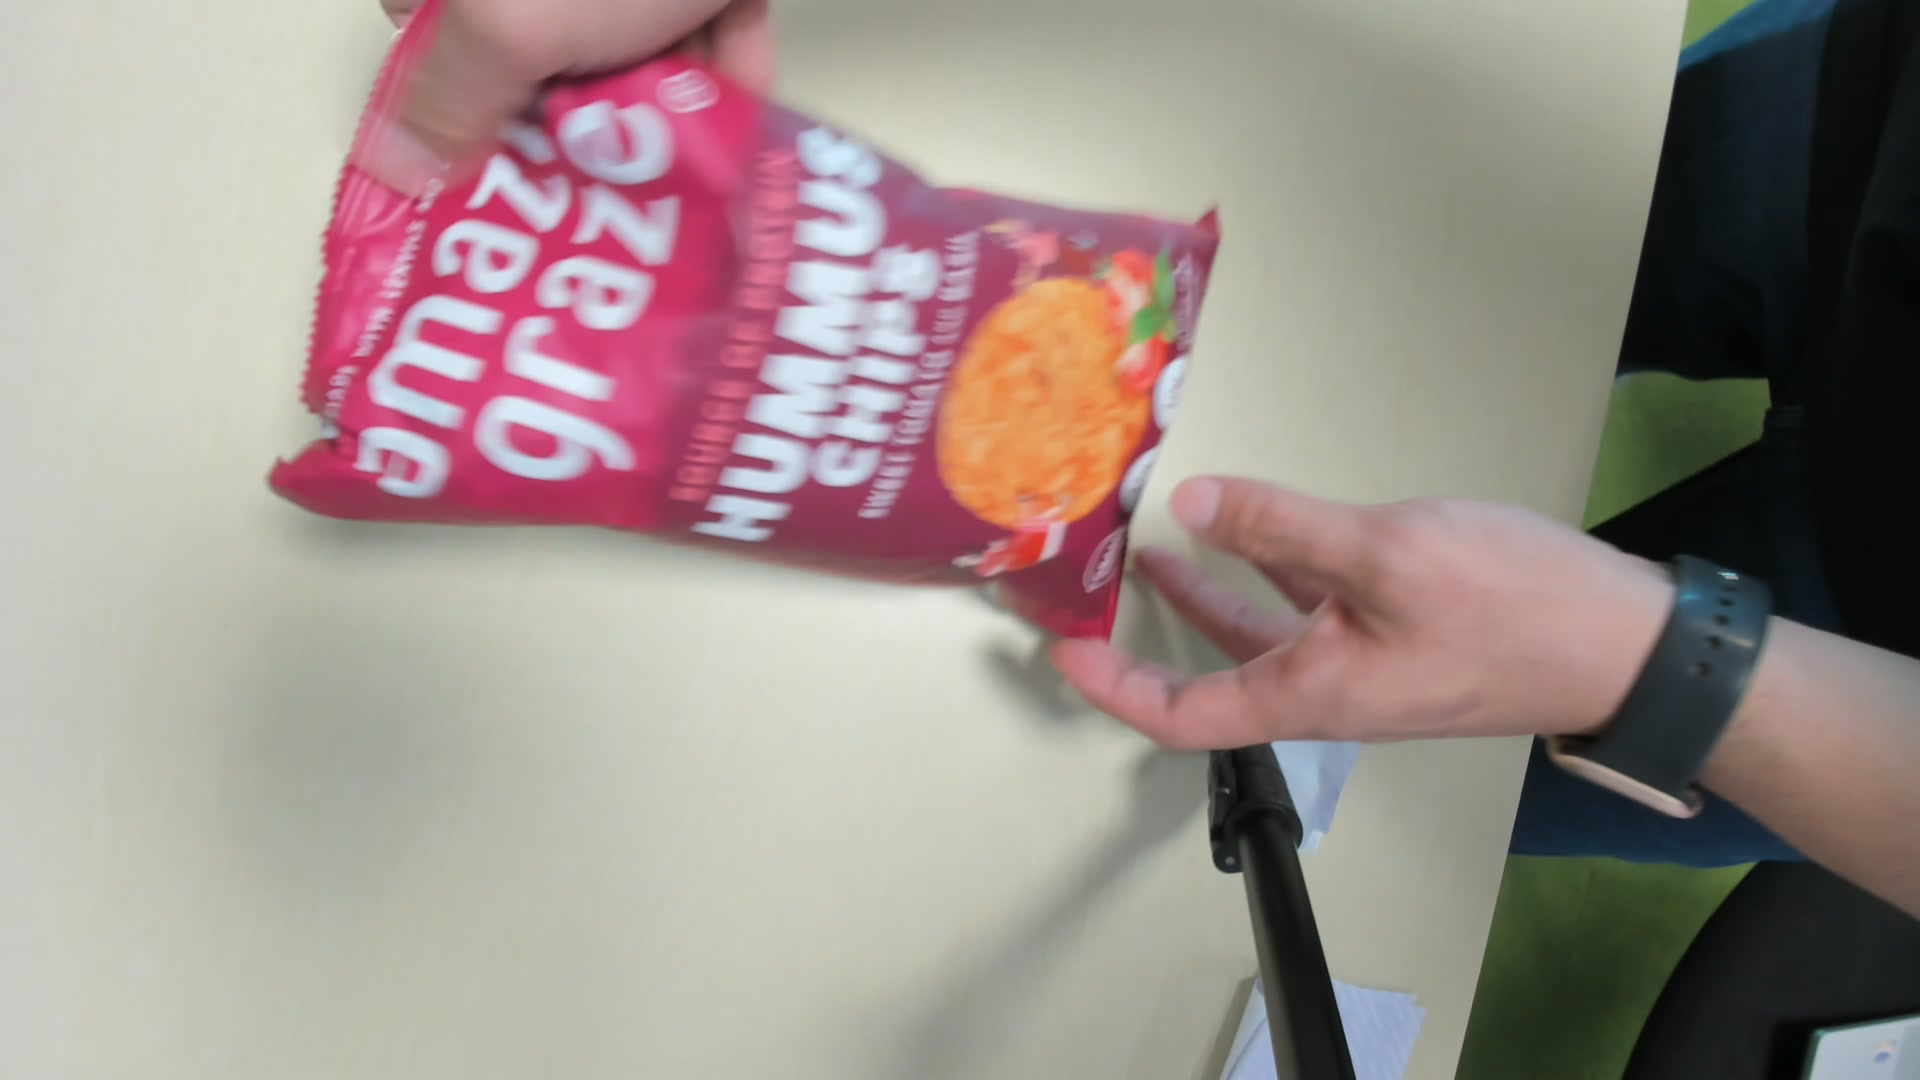PotatoChipsKeropok_100-199g_NonHalal_NonHealthy: (291, 50, 1218, 628)
